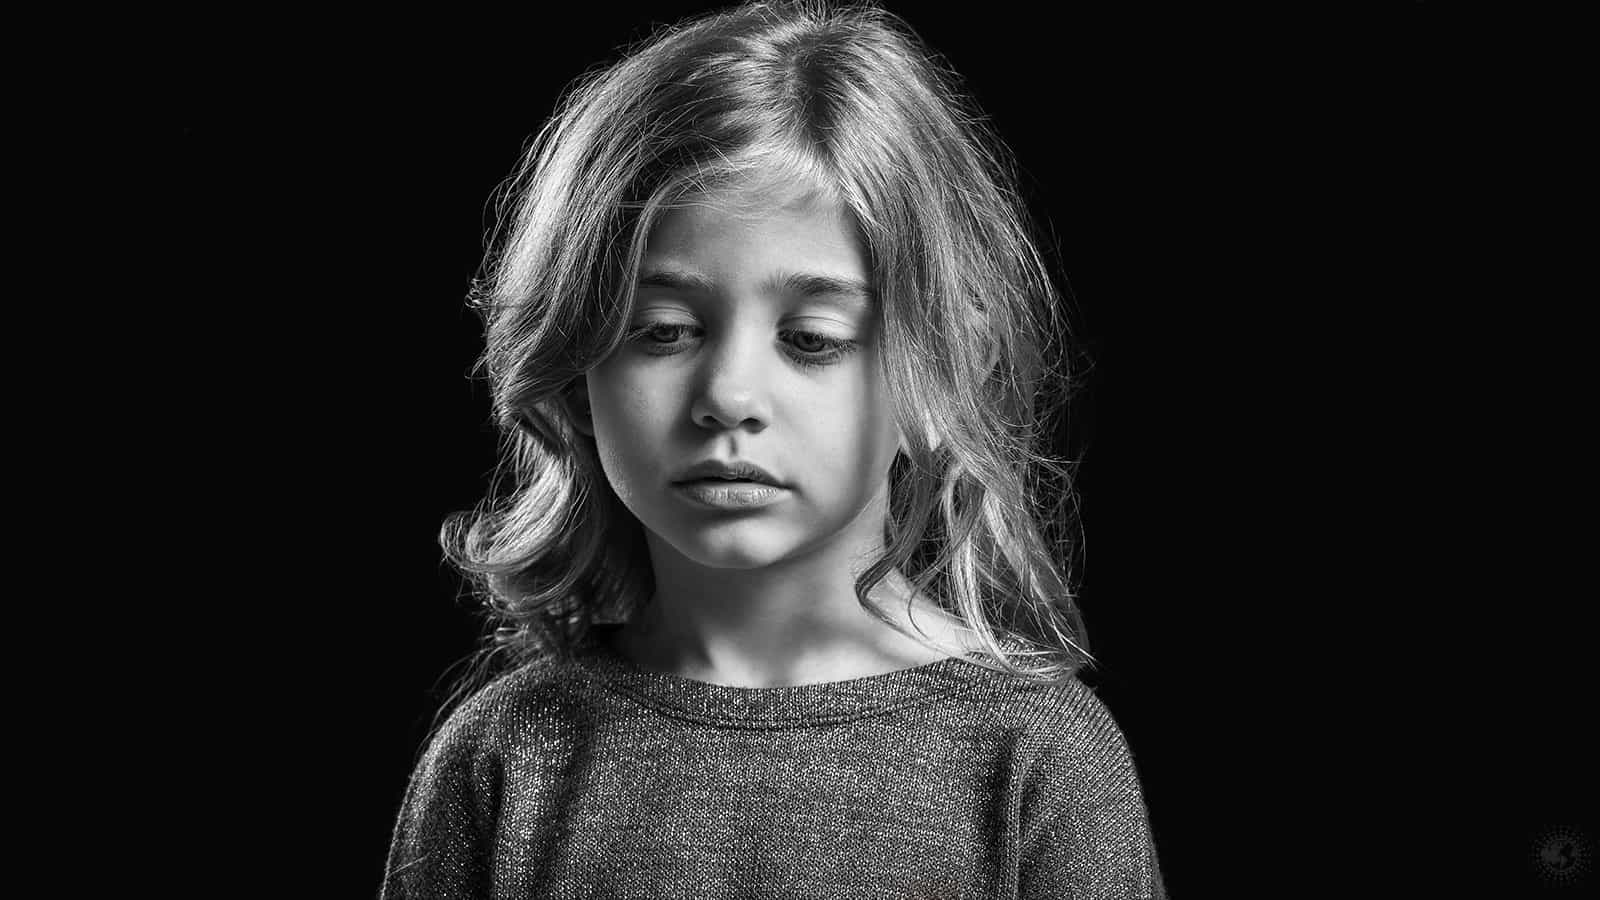human: (385, 1, 1186, 900)
